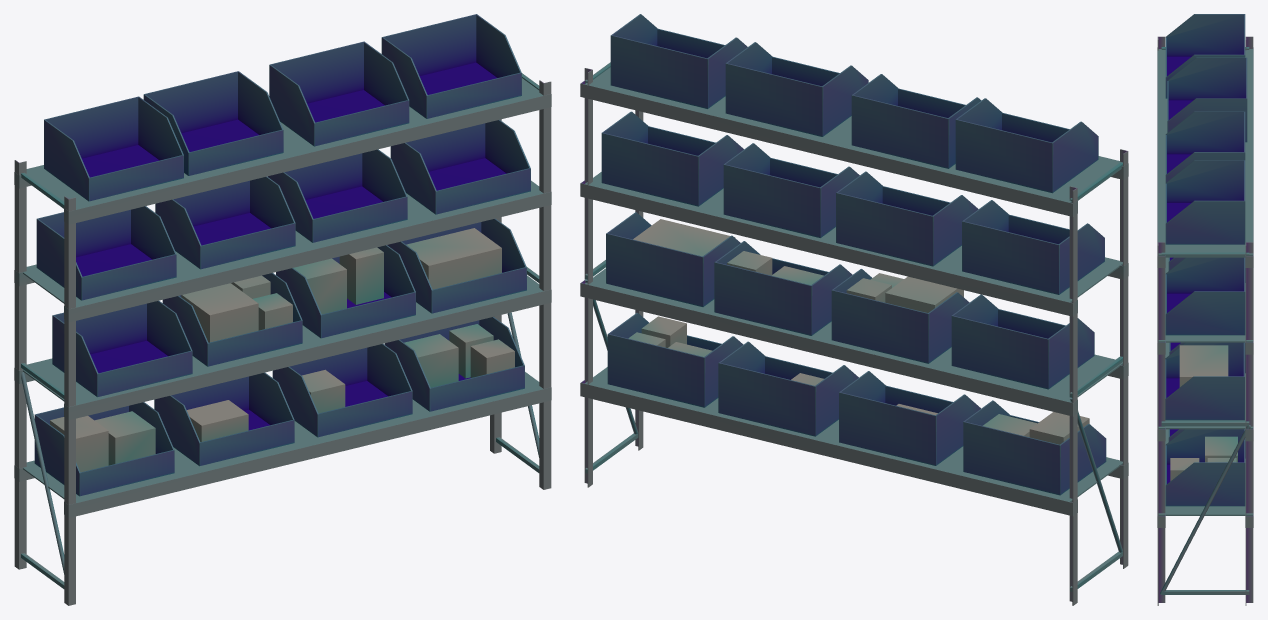
Rendered from simready-rack_composition_l05.glb.
The picture shows the model from 3 angles, left to right: view 1: azimuth 30°, elevation 25°; view 2: azimuth 150°, elevation 25°; view 3: azimuth 270°, elevation 25°; orthographic projection. The views are drawn at different scales.
Visible parts, largest first — view 1: bin_floor.012, bin_floor.014, bin_floor.015, bin_floor.013, bin_floor.011, bin_floor.004, bin_floor.008, bin_floor.009, bin_floor.010, bin_floor.002, bin_floor.001, rail.005 (+28 smaller); view 2: bin_floor.012, bin_floor.014, bin_floor.004, bin_floor.008, bin_floor.009, bin_floor.011, bin_floor.001, bin_floor.002, bin_floor.015, bin_floor.010, bin_floor.013, bin_floor (+21 smaller); view 3: bin_floor.015, bin_floor.011, bin_floor.003, bin_floor.007, bin_floor.013, shelf.003, bin_floor.014, bin_floor.012, angle_post.004, angle_post.002, stored_carton.012, shelf (+17 smaller).
Boxes of the visible parts, box(x1,y1,x2,y2) form: bin_floor.012: box(44, 96, 183, 201); bin_floor.014: box(269, 41, 409, 146); bin_floor.015: box(381, 14, 521, 118); bin_floor.013: box(143, 71, 283, 175); bin_floor.011: box(390, 119, 530, 214); bin_floor.004: box(52, 300, 192, 397); bin_floor.008: box(36, 206, 176, 300); bin_floor.009: box(155, 176, 295, 269); bin_floor.010: box(267, 149, 407, 242); bin_floor.002: box(272, 344, 412, 437); bin_floor.001: box(154, 372, 294, 466); rail.005: box(64, 191, 551, 322); bin_floor.012: box(955, 98, 1098, 193); bin_floor.014: box(725, 42, 868, 136); bin_floor.004: box(951, 294, 1094, 389); bin_floor.008: box(962, 200, 1104, 294); bin_floor.009: box(836, 171, 978, 266); bin_floor.011: box(601, 111, 743, 206); bin_floor.001: box(839, 371, 980, 465); bin_floor.002: box(718, 341, 858, 436); bin_floor.015: box(610, 14, 747, 108); bin_floor.010: box(723, 143, 859, 237); bin_floor.013: box(851, 74, 981, 168); bin_floor: box(963, 400, 1106, 495); bin_floor.015: box(1165, 160, 1245, 244); bin_floor.011: box(1165, 257, 1245, 335); bin_floor.003: box(1165, 429, 1245, 506); bin_floor.007: box(1165, 342, 1244, 420); bin_floor.013: box(1167, 57, 1247, 142); shelf.003: box(1157, 49, 1253, 255); bin_floor.014: box(1165, 111, 1245, 182); bin_floor.012: box(1165, 14, 1245, 98); angle_post.004: box(1245, 242, 1253, 605); angle_post.002: box(1157, 242, 1165, 605); stored_carton.012: box(1179, 345, 1228, 387); shelf: box(1158, 429, 1253, 515).
Bounding box in the file's own units: 3.1 × 2.72 × 0.6029.
